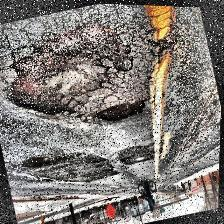pothole: (1, 42, 86, 130), (94, 92, 154, 130), (19, 150, 58, 174)
